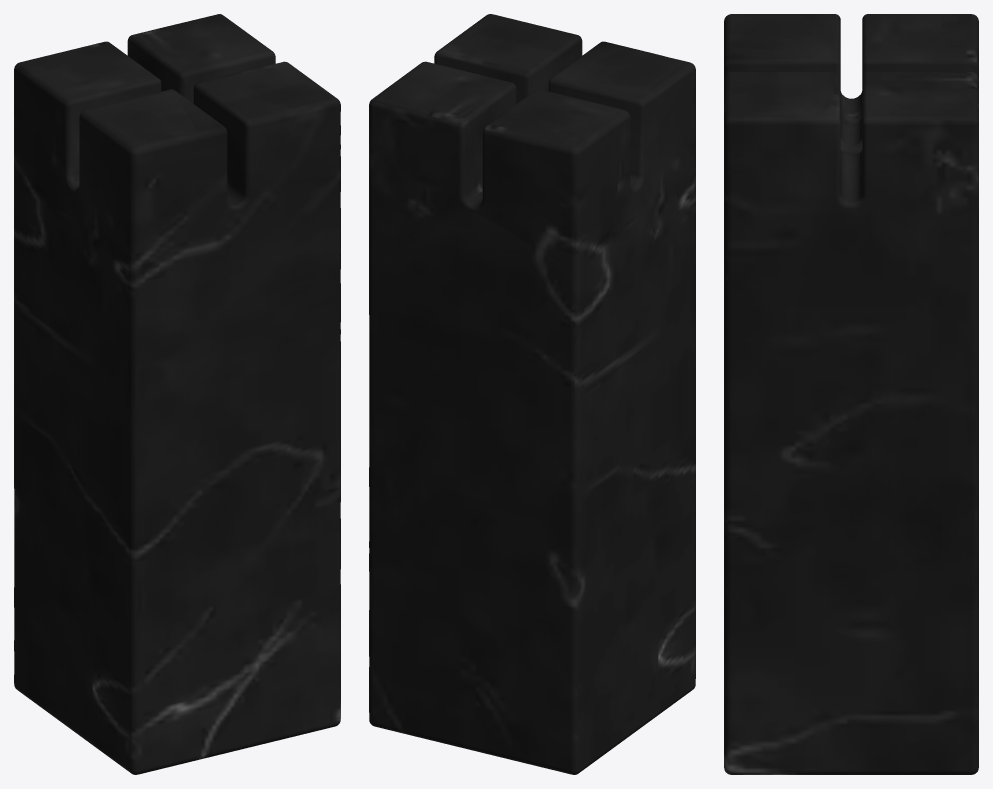
File: vez_cerny.glb
3 renders of one model, left to right at view 1: azimuth 30°, elevation 25°; view 2: azimuth 150°, elevation 25°; view 3: azimuth 270°, elevation 25°, orthographic. The views are drawn at different scales.
Visible parts, largest first — view 1: vez_cerny; view 2: vez_cerny; view 3: vez_cerny.
Part boxes in pixels (left/top/right/bottom): vez_cerny: left=14, top=14, right=340, bottom=774; vez_cerny: left=369, top=14, right=695, bottom=774; vez_cerny: left=724, top=14, right=978, bottom=774.
Size of the model in its own units: 0.024 by 0.0684 by 0.024.
Materials: 1 (1 with a texture image).
